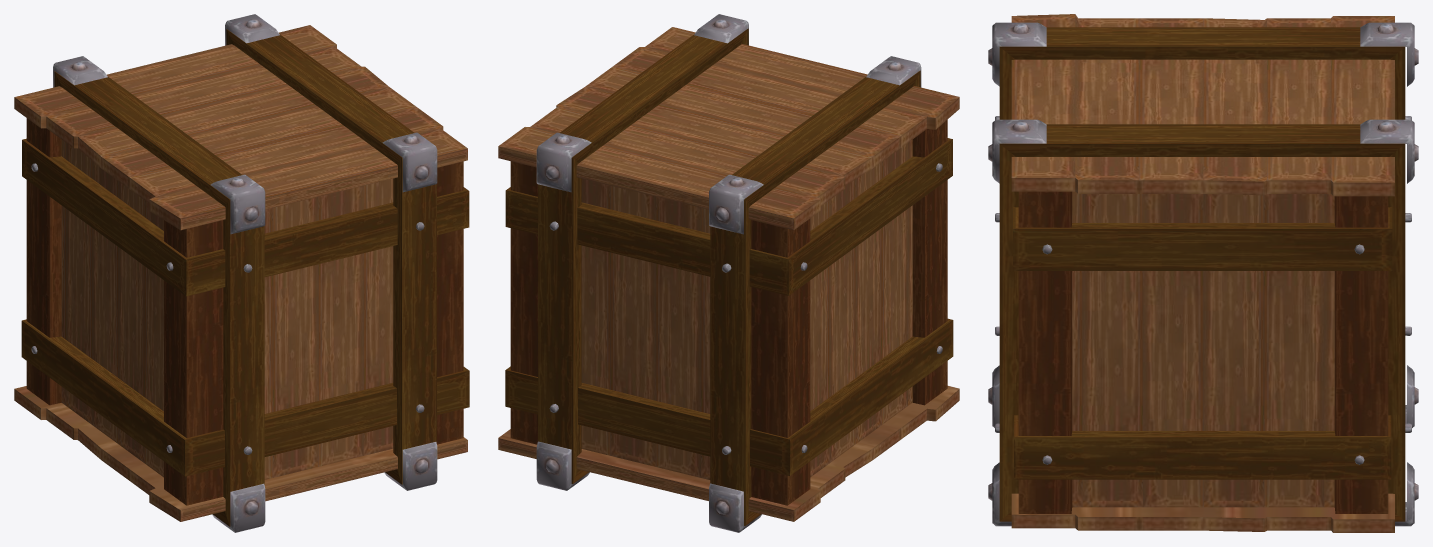
Rendered from quaternius-fantasy-props-crate-wooden.glb.
The picture shows the model from 3 angles, left to right: view 1: azimuth 30°, elevation 25°; view 2: azimuth 150°, elevation 25°; view 3: azimuth 270°, elevation 25°; orthographic projection. The views are drawn at different scales.
Parts seen in each view (by area): view 1: Crate_Wooden; view 2: Crate_Wooden; view 3: Crate_Wooden.
Boxes of the visible parts, bbox=[...] form: Crate_Wooden: bbox=[14, 14, 469, 532]; Crate_Wooden: bbox=[498, 14, 959, 532]; Crate_Wooden: bbox=[988, 14, 1418, 532].
Size of the model in its own units: 0.6786 by 0.75 by 0.7318.
Materials: 2 (2 with a texture image).
